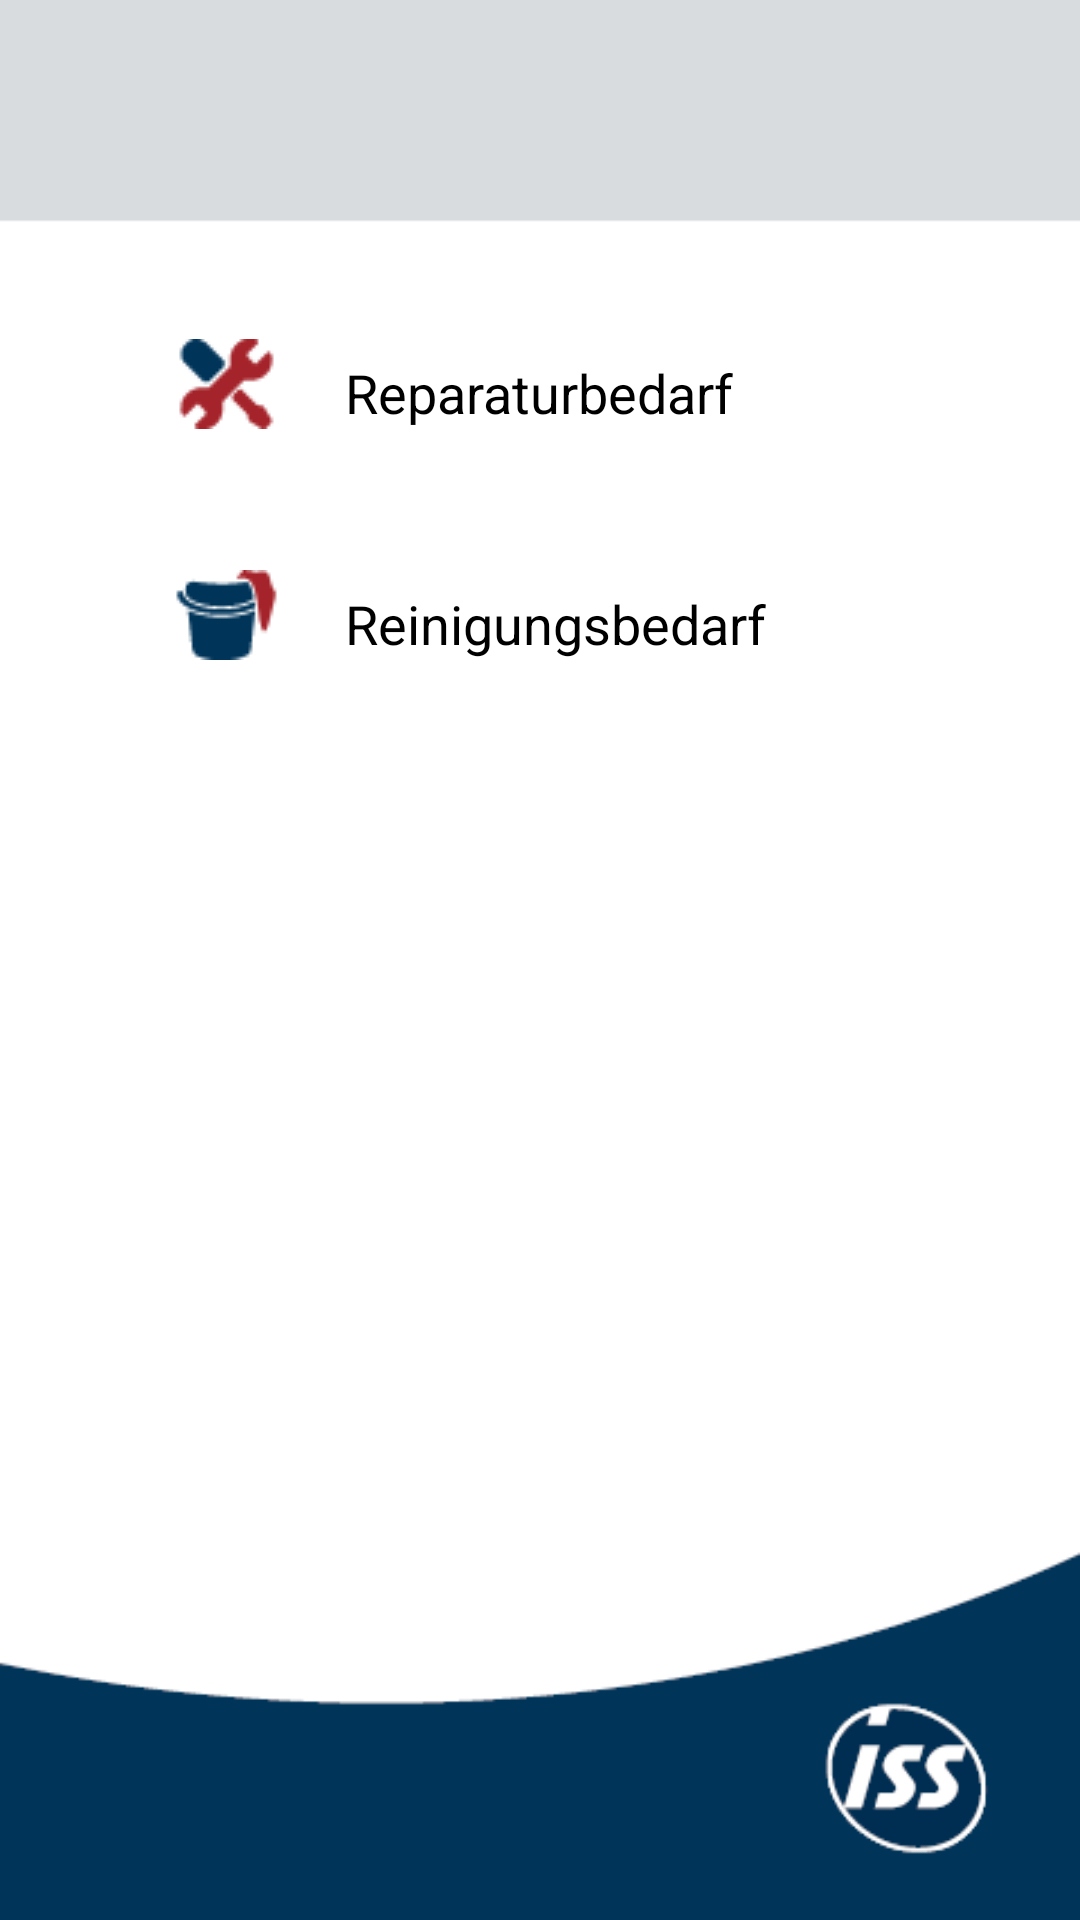

Screen size 1080 x 1920. Icon name, then its box in pixels as (x1, y1, x2, y2):
reinigung klein: (176, 570, 277, 660)
repk: (179, 339, 274, 429)
